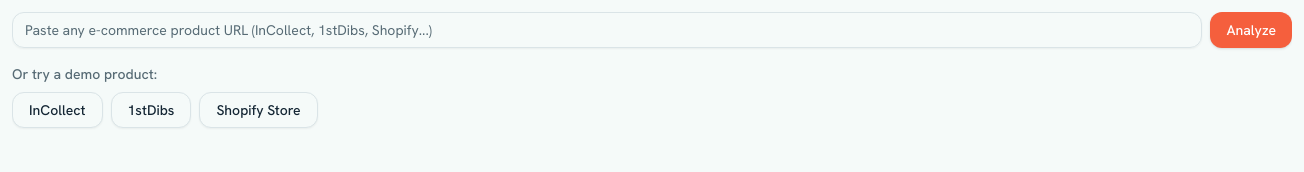
Test case: submit analysis flow (User Story 1) › shows an inline validation error for an invalid URL and never starts a run
Type "not-a-url" into the field with placeholder "Paste any e-commerce product URL" at (607, 30), box [12, 12, 1202, 48]
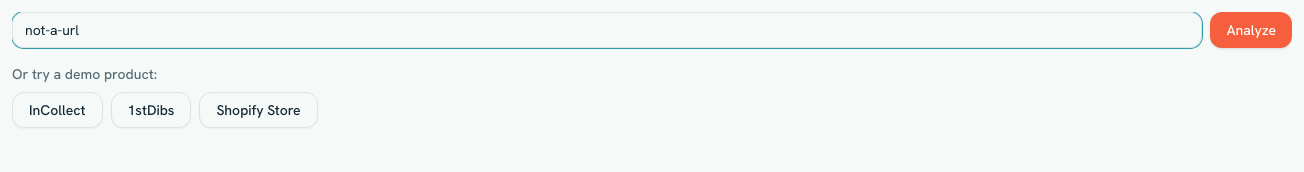
Click the button "Analyze" at (1251, 30), box [1210, 12, 1292, 48]
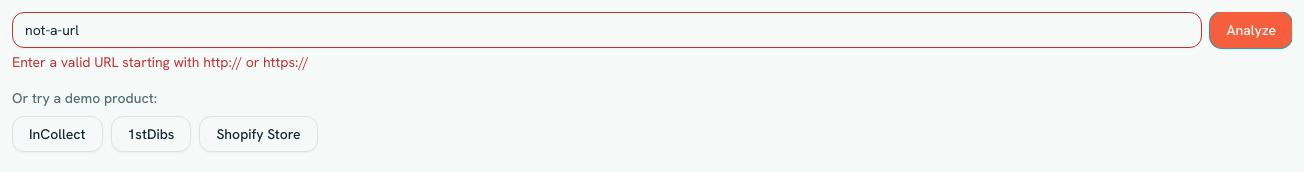
Now the text "Enter a valid URL starting with http:// or https://" is shown, box [12, 53, 309, 71]
